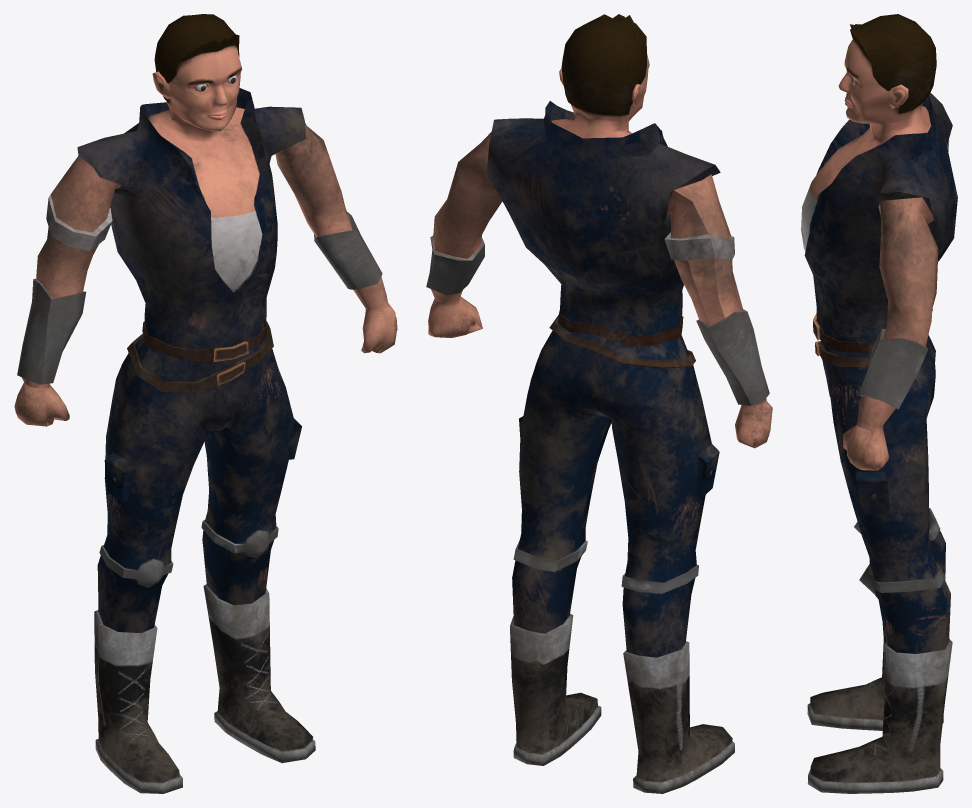
Rendered from Anim_idle_jugador.0015.obj.
The picture shows the model from 3 angles, left to right: view 1: azimuth 30°, elevation 25°; view 2: azimuth 150°, elevation 25°; view 3: azimuth 270°, elevation 25°; orthographic projection.
Visible parts, largest first — view 1: polySurface1; view 2: polySurface1; view 3: polySurface1.
Boxes of the visible parts, x1,y1,x2,y2 form: polySurface1: (14,14,397,793); polySurface1: (426,14,772,793); polySurface1: (801,14,957,793).
Size of the model in its own units: 4.95 by 9.64 by 1.86.
